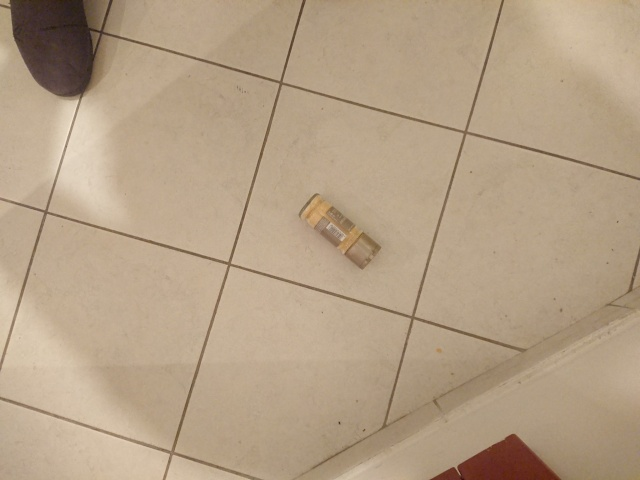Kotanyi Garlic Granules 70g: (297, 192, 384, 271)
